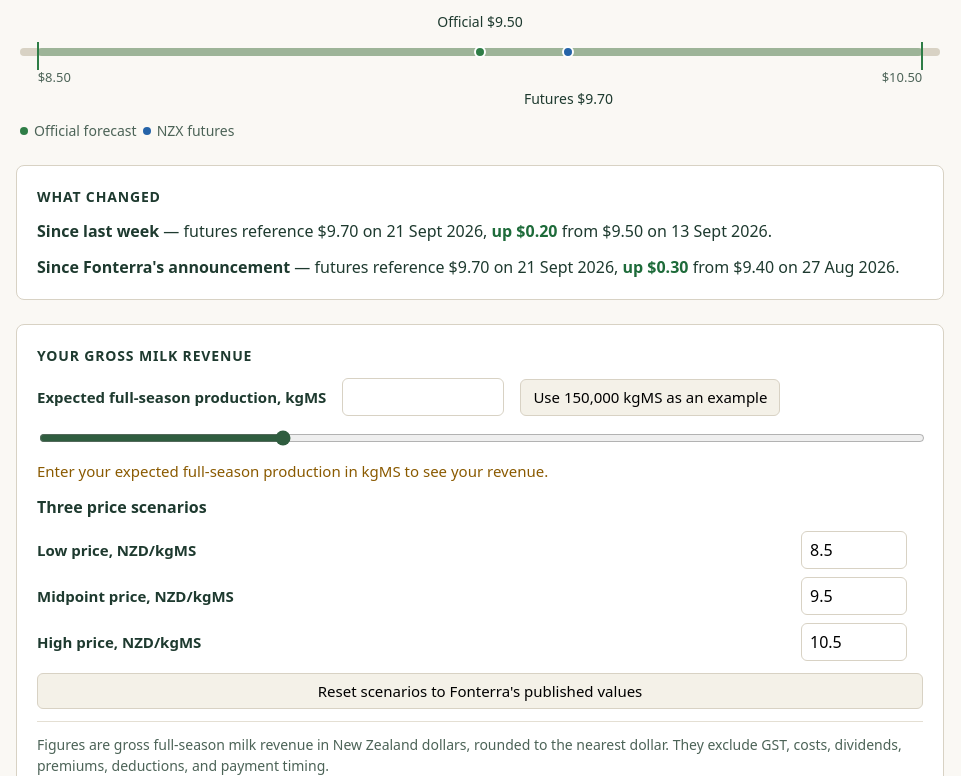
it: movement tiles › shows NZ$0 movement tiles at zero production
(page scrolled)
In the field labelled "Expected full-season production, kgMS": (423, 397) [342,378,504,416], type "0"
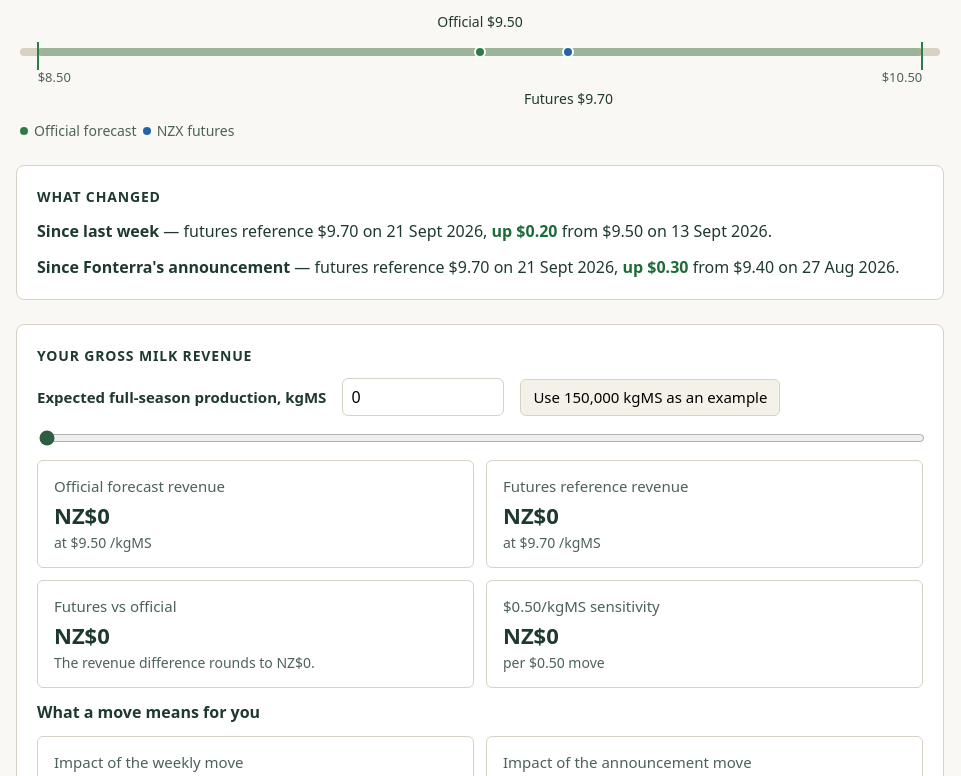
Expected: the text "Impact of the weekly move" is shown, [54,752,244,772]
Expected: the text "Impact of the announcement move" is shown, [503,752,752,772]
Expected: the text "NZ$0" is shown 9 times
